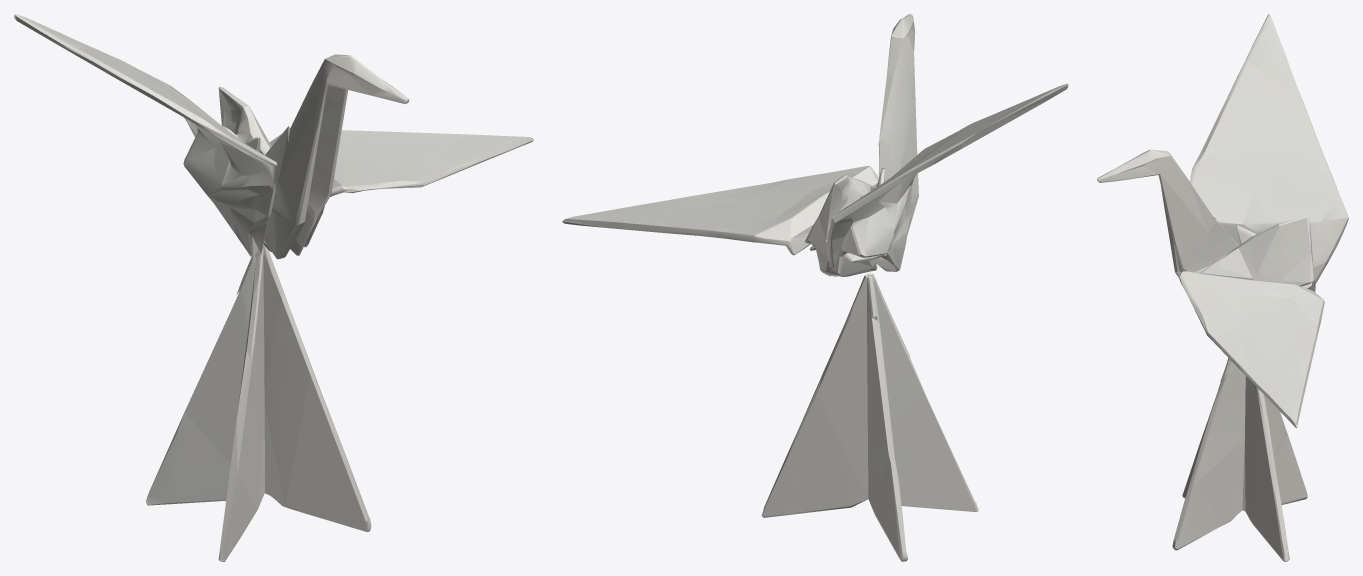
The picture shows the model from 3 angles, left to right: view 1: azimuth 30°, elevation 25°; view 2: azimuth 150°, elevation 25°; view 3: azimuth 270°, elevation 25°; orthographic projection. The views are drawn at different scales.
Size of the model in its own units: 1 by 0.9713 by 0.5203.
1 material, 1 textured.
